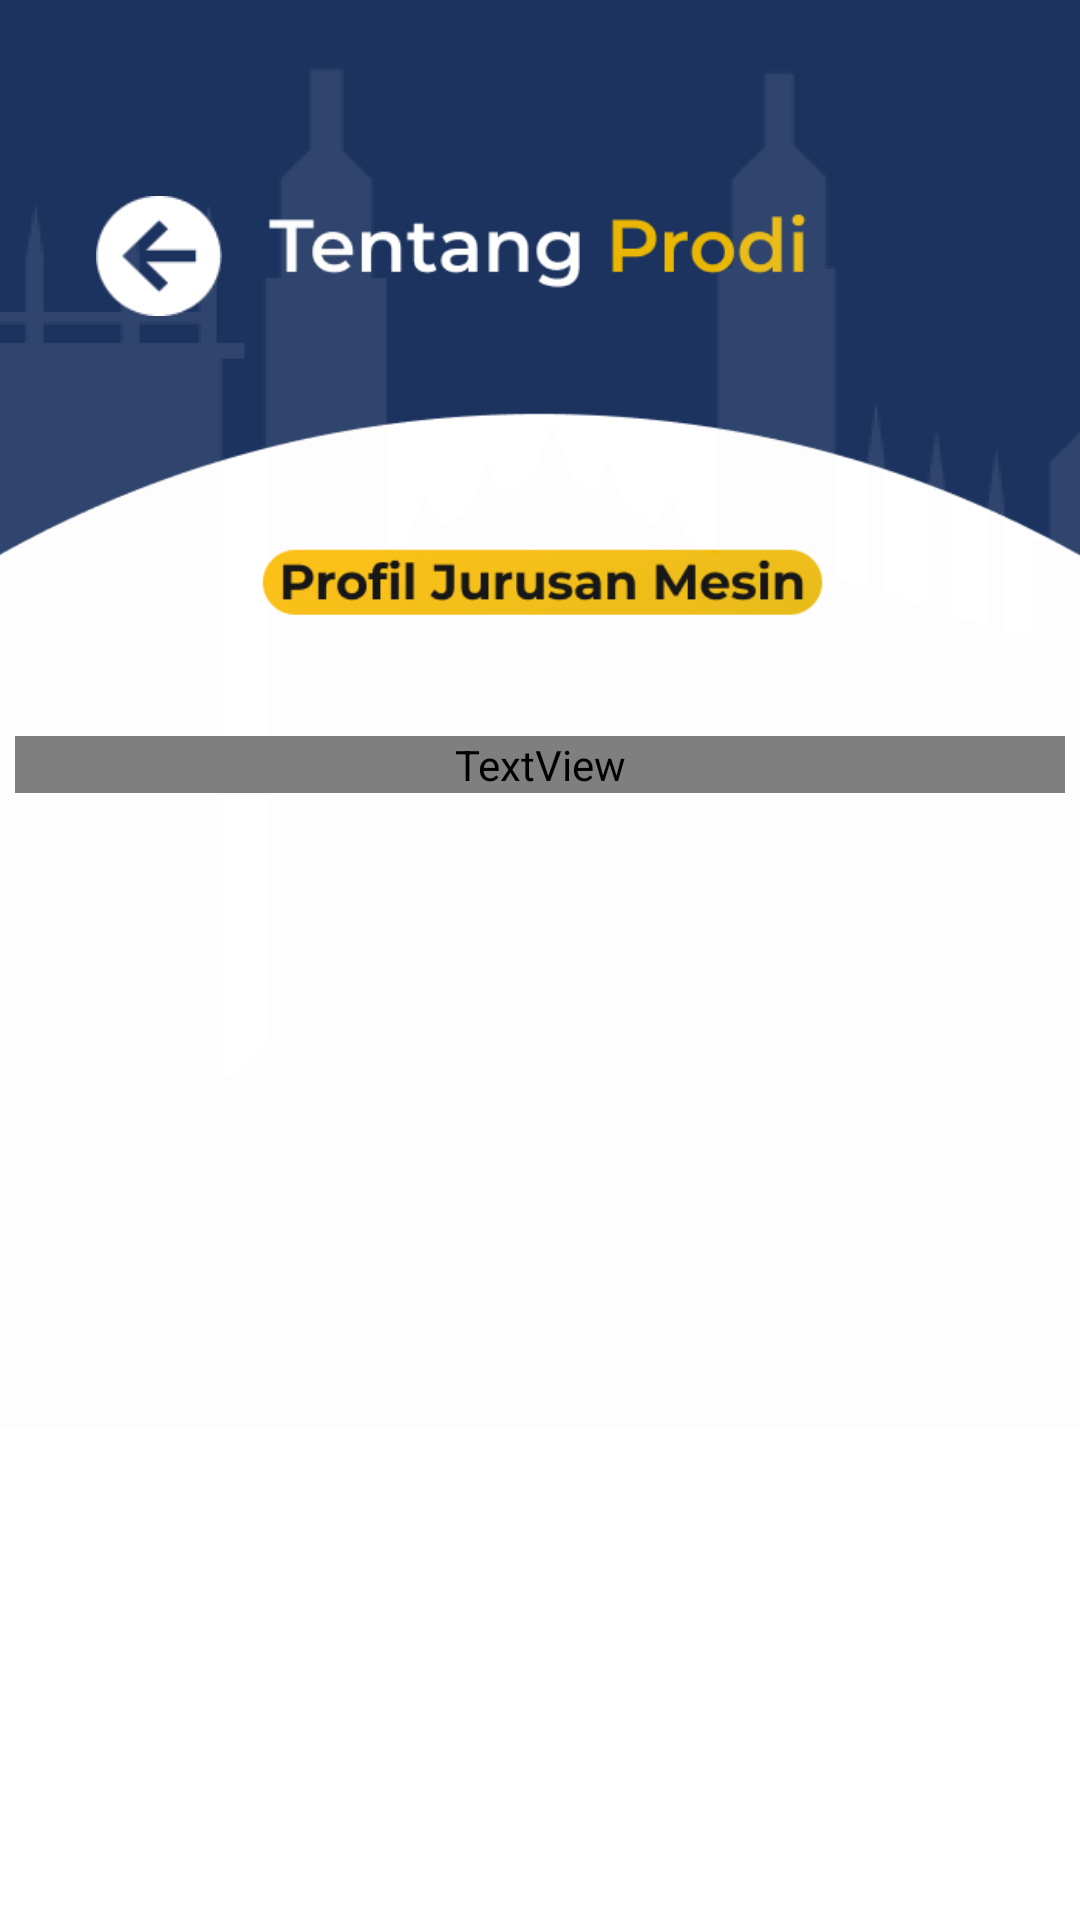

Where to tap for icons on this 1080 x 1920 app screen, as (x,y):
butback: (159,256)
